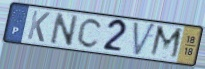2: (100, 18, 131, 54)
C: (76, 17, 105, 50)
K: (26, 9, 52, 44)
M: (148, 24, 185, 62)
N: (49, 11, 80, 48)
V: (132, 21, 158, 58)
